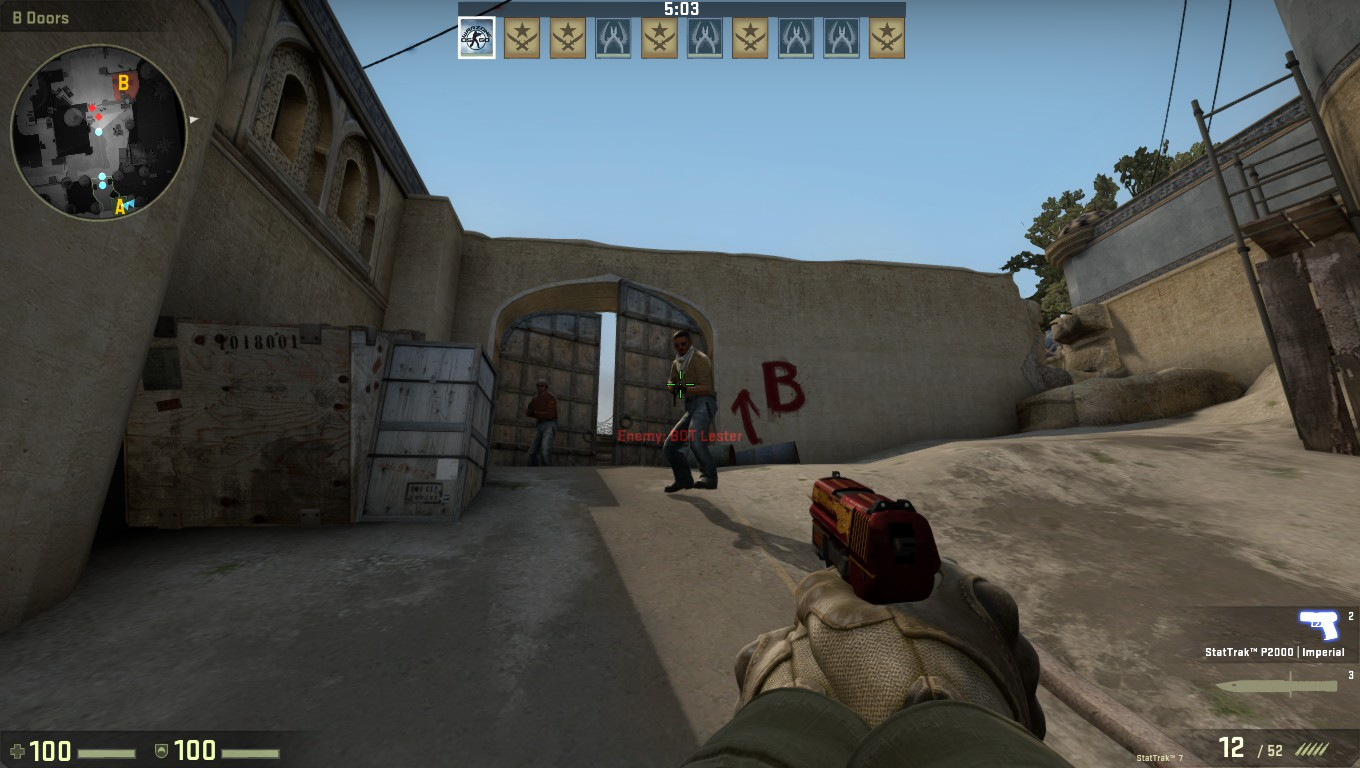t: (648, 328, 732, 497), (517, 375, 574, 464)
th: (664, 325, 704, 367), (528, 378, 561, 400)
